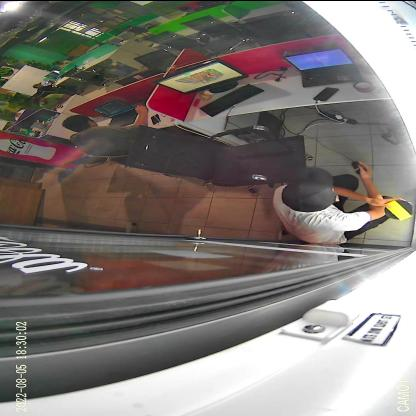yellow: (384, 199, 414, 220)
